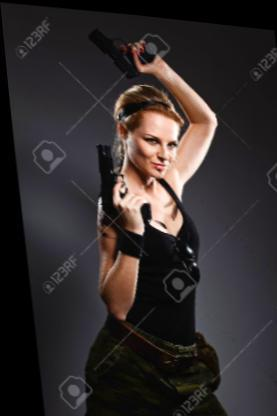pistol: (88, 138, 148, 223), (82, 20, 158, 78)
